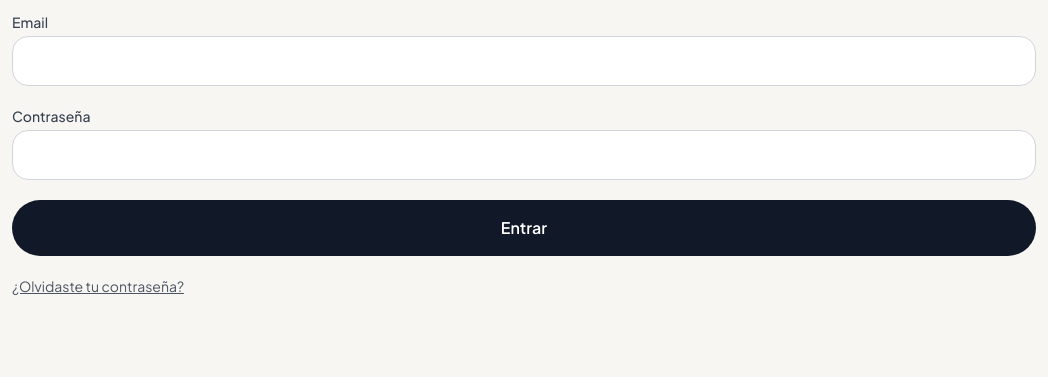
LoginForm › shows mapped credential errors from the action
Click the button "Entrar". click: click(524, 228)
box: [12, 200, 1036, 256]
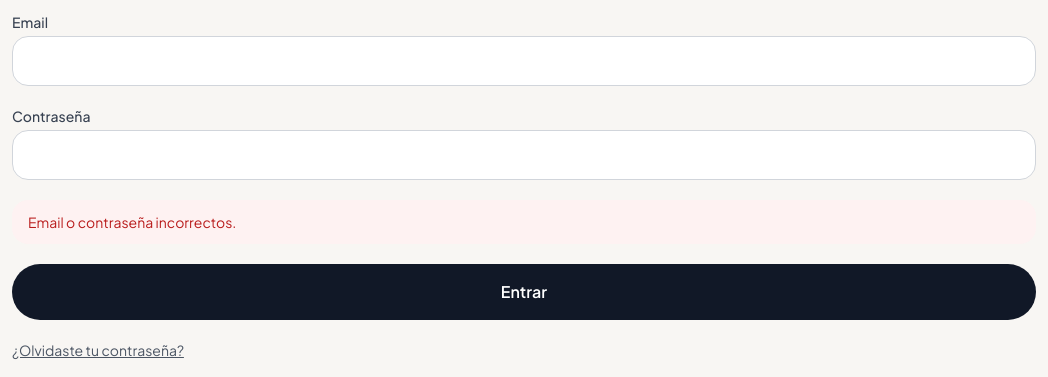
Expected: the text "Email o contraseña incorrectos." is shown, [12, 200, 1036, 244]
